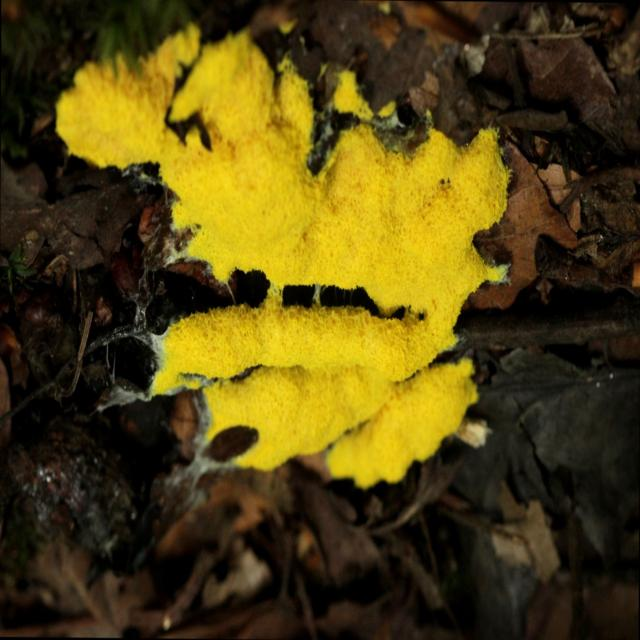Dog_vomit_slime_mold: (46, 0, 520, 526)
